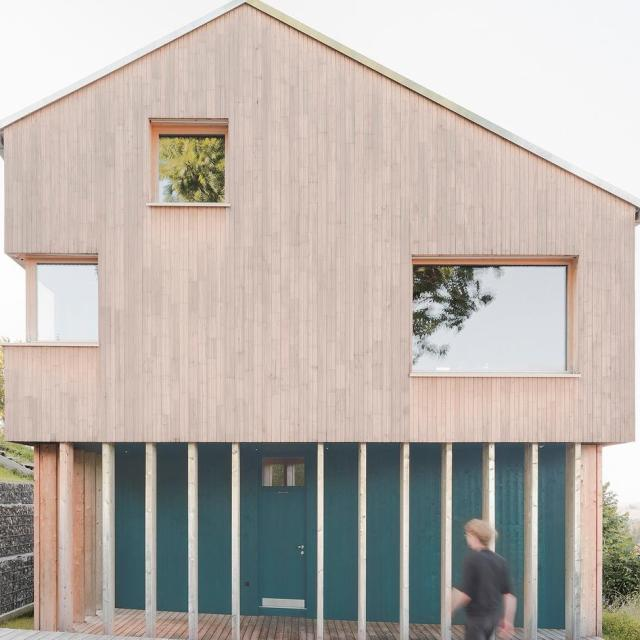door: (257, 441, 308, 614)
window: (413, 264, 568, 373), (153, 126, 224, 201), (36, 262, 99, 342)
